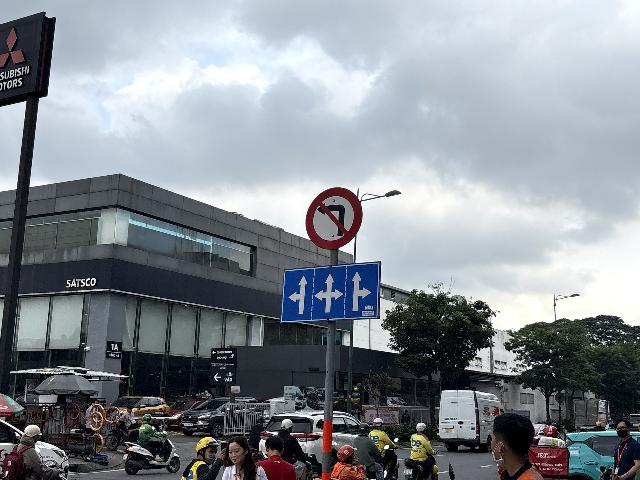cam-re-trai: (304, 186, 363, 251)
